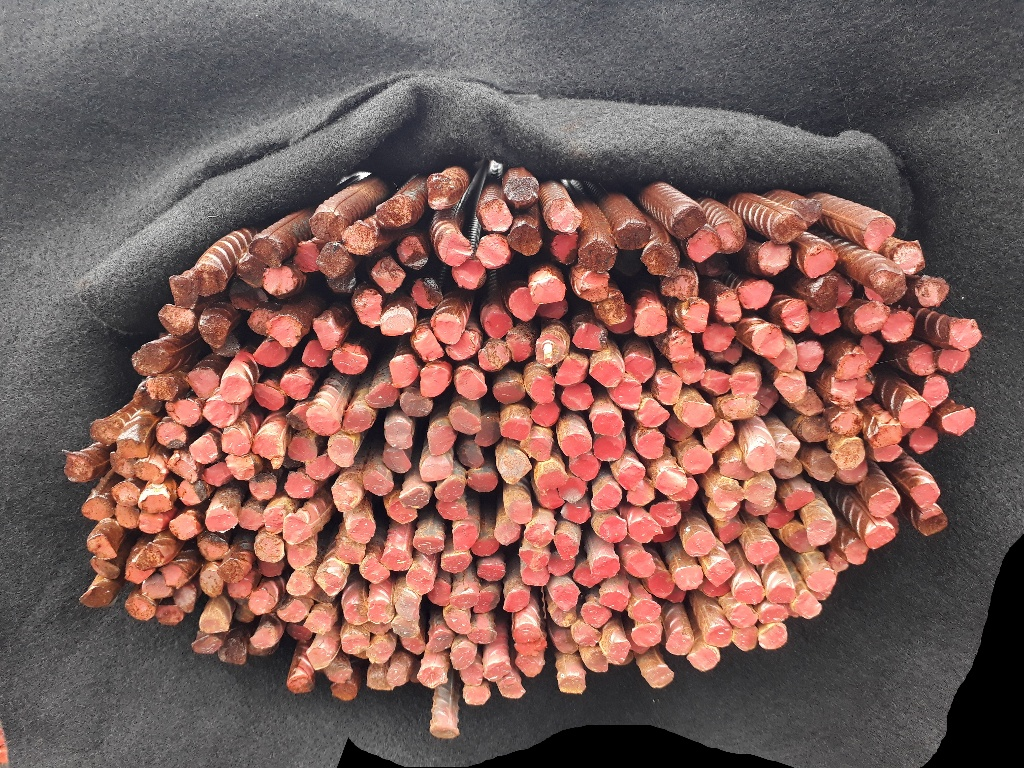dipstick: (133, 341, 169, 376), (377, 194, 411, 228), (643, 242, 677, 276), (497, 449, 532, 482), (893, 241, 925, 276), (579, 242, 616, 272), (661, 269, 698, 299), (159, 304, 195, 334), (270, 313, 300, 349), (863, 215, 894, 249), (594, 293, 627, 324), (804, 248, 837, 279), (916, 276, 949, 307), (427, 174, 457, 208), (871, 271, 905, 301), (374, 257, 403, 292), (312, 209, 343, 241), (480, 200, 512, 231), (187, 367, 218, 399), (950, 318, 981, 350), (397, 237, 427, 270), (254, 427, 284, 460), (773, 214, 806, 244), (855, 303, 888, 333), (248, 237, 282, 266), (381, 308, 415, 337), (478, 236, 509, 267), (834, 438, 865, 469), (550, 203, 582, 233), (511, 224, 543, 254), (688, 234, 721, 263), (575, 272, 609, 300), (614, 222, 649, 249), (752, 326, 782, 357), (319, 245, 348, 277), (441, 232, 469, 265), (942, 408, 976, 435), (355, 290, 380, 326), (332, 482, 362, 512), (413, 277, 442, 308), (598, 514, 627, 545), (204, 399, 236, 427), (740, 283, 774, 309), (197, 265, 227, 294), (415, 331, 444, 361), (760, 245, 790, 274), (536, 334, 564, 365), (65, 452, 93, 483), (797, 341, 825, 372), (237, 256, 264, 288), (346, 222, 373, 254), (532, 276, 564, 303), (206, 505, 238, 532), (811, 278, 838, 310), (592, 436, 625, 462), (534, 462, 567, 488), (702, 324, 735, 350), (681, 402, 715, 427), (937, 349, 971, 374), (638, 306, 667, 335), (673, 208, 702, 237), (456, 371, 486, 399), (189, 435, 219, 463), (869, 489, 899, 517), (253, 535, 284, 562), (638, 401, 669, 428), (746, 539, 777, 566), (200, 313, 226, 345), (561, 385, 593, 411), (682, 447, 714, 473), (167, 400, 200, 425), (718, 221, 743, 254), (783, 299, 808, 332), (553, 232, 577, 266), (390, 356, 418, 385), (479, 344, 508, 372), (384, 421, 413, 449), (427, 424, 455, 453), (637, 431, 665, 460), (282, 373, 312, 400), (219, 374, 249, 401), (157, 422, 187, 449), (625, 354, 655, 381), (706, 422, 733, 452), (900, 401, 930, 428), (887, 313, 914, 343), (908, 345, 935, 375), (421, 455, 452, 481), (556, 358, 587, 384), (830, 379, 856, 410), (293, 241, 318, 273), (810, 310, 842, 335), (255, 383, 283, 411), (434, 313, 461, 342), (309, 407, 338, 434), (382, 447, 411, 474), (796, 200, 823, 229), (509, 331, 532, 365), (507, 175, 537, 201), (450, 408, 480, 434), (227, 455, 257, 481), (171, 275, 196, 306), (314, 317, 339, 348), (329, 436, 354, 467), (591, 361, 622, 386), (917, 510, 948, 535), (575, 325, 607, 349), (400, 393, 432, 417), (219, 430, 251, 454), (421, 368, 448, 396), (592, 485, 620, 512), (703, 369, 730, 397), (794, 591, 822, 618), (777, 372, 804, 400), (198, 535, 227, 561), (288, 543, 317, 569), (684, 302, 710, 331), (615, 382, 641, 411), (363, 471, 393, 496), (569, 455, 599, 480), (466, 469, 496, 494), (656, 469, 686, 494), (630, 514, 655, 544), (493, 380, 524, 404), (335, 350, 366, 374), (670, 331, 694, 362), (657, 375, 681, 406), (734, 580, 765, 604), (837, 353, 868, 377), (484, 311, 511, 338), (140, 541, 167, 568), (455, 262, 483, 288), (523, 436, 551, 462), (686, 532, 714, 558), (255, 341, 284, 366), (289, 436, 318, 461), (530, 375, 555, 404), (573, 565, 602, 590), (758, 623, 787, 648), (721, 398, 759, 417), (924, 376, 948, 406), (629, 600, 663, 621), (82, 498, 114, 520), (220, 639, 247, 665), (747, 445, 774, 471), (912, 483, 940, 508), (170, 515, 199, 539), (594, 413, 623, 437), (909, 428, 938, 452), (833, 412, 862, 436), (801, 417, 830, 441), (512, 288, 533, 321), (135, 461, 165, 484), (285, 513, 308, 543), (713, 484, 743, 507), (865, 526, 896, 548), (678, 358, 704, 384), (628, 552, 654, 578), (171, 454, 196, 481), (361, 557, 388, 582), (732, 602, 759, 627), (178, 483, 210, 504), (627, 482, 655, 506), (583, 603, 611, 627), (705, 559, 733, 583), (344, 409, 373, 432), (306, 457, 335, 480), (718, 291, 740, 321), (873, 425, 903, 447), (554, 534, 580, 559), (655, 501, 681, 526), (808, 519, 833, 545), (810, 456, 836, 481), (406, 569, 433, 593), (619, 463, 646, 487), (646, 665, 673, 689), (435, 478, 463, 501), (675, 567, 703, 590), (719, 521, 747, 544), (745, 482, 773, 505), (117, 438, 149, 458), (366, 383, 395, 405), (690, 648, 719, 670), (147, 378, 177, 399), (863, 336, 882, 369), (316, 570, 341, 595), (553, 629, 578, 654), (453, 332, 477, 358), (459, 441, 483, 467), (110, 454, 134, 480), (286, 475, 312, 499), (349, 519, 375, 543), (454, 524, 478, 550), (287, 569, 310, 596), (651, 570, 674, 597), (111, 483, 139, 505), (337, 542, 365, 564), (532, 404, 560, 426), (561, 434, 590, 455), (562, 504, 591, 525), (520, 548, 549, 569), (802, 387, 823, 416), (239, 506, 264, 530), (80, 587, 110, 607), (303, 343, 329, 366), (477, 421, 500, 447), (525, 525, 551, 548), (559, 481, 585, 504), (666, 632, 692, 655), (436, 501, 469, 519), (494, 523, 521, 545), (573, 623, 600, 645), (720, 457, 747, 479), (89, 560, 120, 579), (126, 598, 154, 619), (278, 601, 306, 622), (264, 504, 284, 533), (442, 554, 471, 574), (515, 656, 544, 676), (632, 626, 661, 646), (252, 475, 276, 499), (507, 501, 531, 525), (554, 585, 578, 609), (503, 417, 528, 440), (91, 419, 116, 442), (199, 570, 222, 595), (250, 589, 273, 614), (249, 310, 271, 336), (218, 560, 244, 582), (476, 562, 506, 581), (758, 604, 788, 623), (392, 617, 419, 638), (142, 577, 170, 597), (419, 667, 447, 687), (191, 635, 222, 653), (782, 335, 797, 372), (89, 535, 113, 558), (253, 625, 276, 649), (607, 641, 631, 664), (400, 487, 429, 506), (205, 463, 230, 485), (450, 647, 475, 669), (594, 555, 620, 576), (787, 490, 813, 511), (155, 605, 182, 625), (808, 571, 835, 591), (773, 459, 801, 478), (116, 505, 139, 528), (306, 645, 329, 668), (708, 626, 731, 649), (733, 628, 757, 650), (395, 593, 416, 618), (538, 491, 565, 510), (413, 537, 443, 554), (344, 603, 367, 625), (389, 504, 417, 522), (368, 603, 392, 624), (369, 641, 393, 662), (558, 676, 586, 694), (504, 591, 529, 611), (769, 584, 794, 604), (139, 514, 165, 533), (127, 563, 153, 582), (176, 586, 195, 612), (774, 439, 800, 458), (199, 615, 228, 632), (462, 687, 491, 704), (602, 592, 629, 610), (477, 592, 499, 614), (289, 408, 309, 432), (142, 496, 172, 512), (514, 640, 546, 655), (846, 539, 866, 563), (451, 591, 479, 608), (667, 423, 695, 440), (513, 624, 541, 641), (340, 634, 365, 653), (483, 664, 512, 680), (332, 684, 359, 701), (385, 551, 409, 570), (306, 612, 330, 631), (473, 536, 497, 555), (549, 556, 573, 575), (837, 277, 852, 307), (551, 608, 577, 625), (461, 665, 482, 686), (428, 634, 451, 653), (431, 583, 450, 606), (768, 506, 787, 529), (791, 529, 810, 552), (856, 376, 874, 400), (286, 623, 311, 640), (467, 629, 497, 643), (706, 507, 741, 519), (448, 614, 470, 633), (871, 448, 903, 461), (836, 470, 867, 483), (587, 652, 608, 671), (166, 565, 184, 587), (431, 725, 459, 739), (522, 570, 548, 585), (287, 677, 311, 692), (401, 639, 425, 654), (258, 562, 283, 576), (500, 684, 525, 698), (367, 673, 390, 688), (229, 582, 251, 597), (329, 668, 351, 683), (680, 484, 698, 502), (745, 504, 772, 516), (233, 604, 252, 621), (705, 583, 729, 595), (831, 553, 847, 571), (387, 669, 406, 684), (725, 350, 740, 365)
